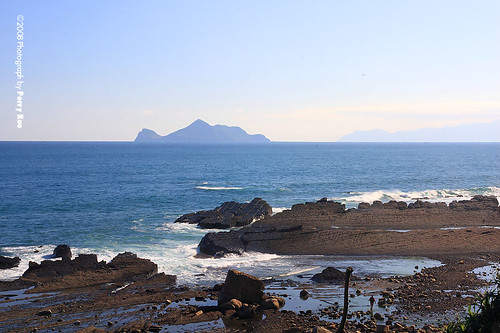turtleIslandLeft: (128, 117, 273, 143)
